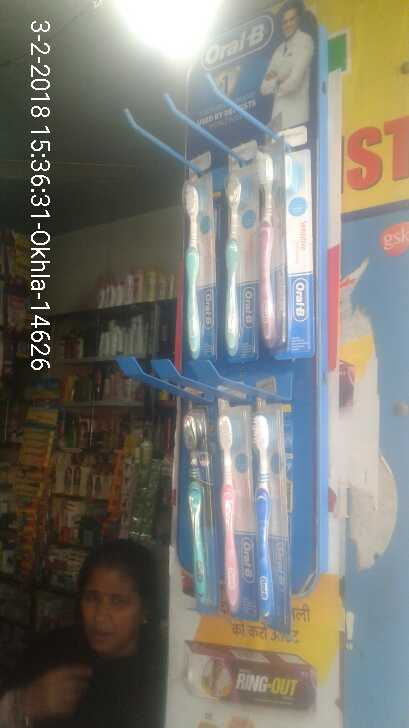oralb: (210, 407, 244, 622), (182, 407, 211, 615), (254, 151, 282, 349), (252, 415, 278, 626), (219, 172, 246, 355), (183, 180, 211, 356)
